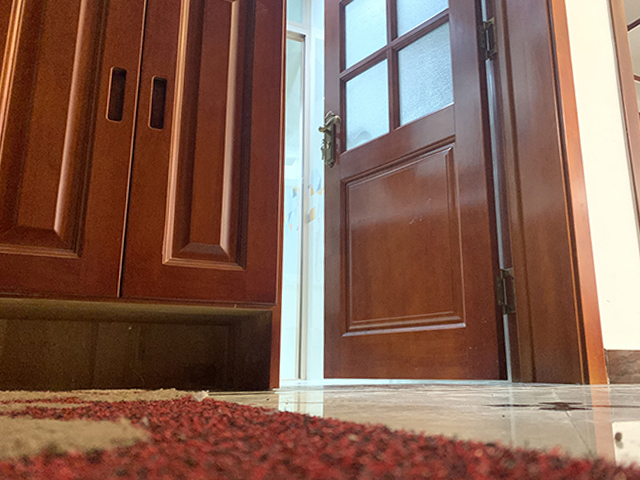cabinet: (1, 1, 288, 392)
carpet: (1, 388, 640, 480)
